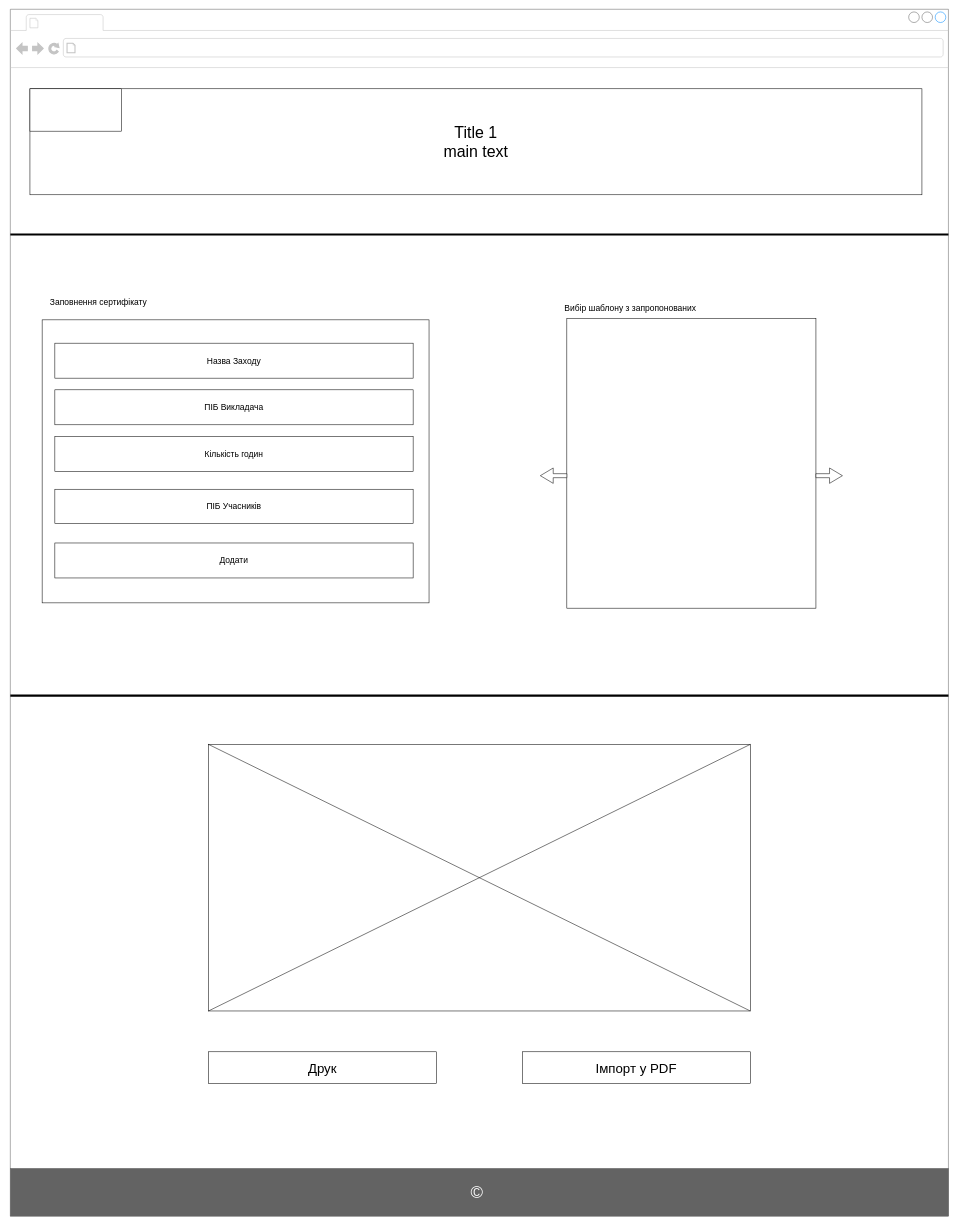
The diagram is 958 pixels wide and 1225 high, and some of its shapes have lost their labels. The centre of each missing label's shape, as x and y in pixels:
"https://www.draw.io" goes at point (145, 48).
"LOGO" goes at point (75, 109).
"Page 1" goes at point (71, 22).
